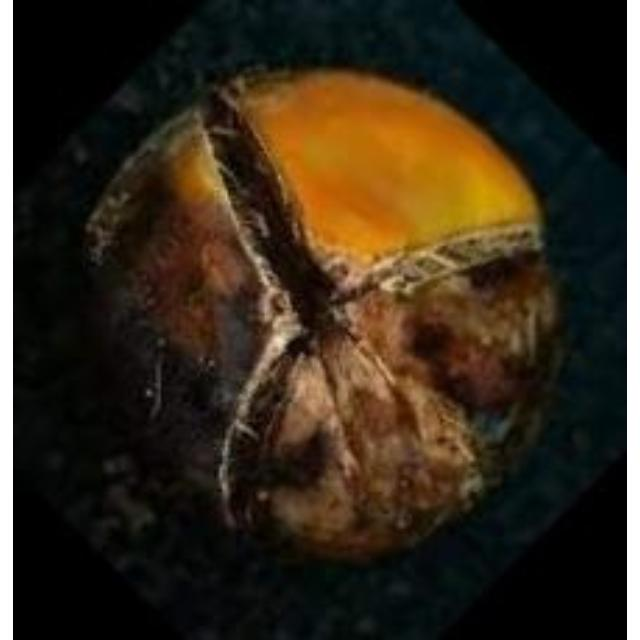damaged: (80, 67, 569, 570)
